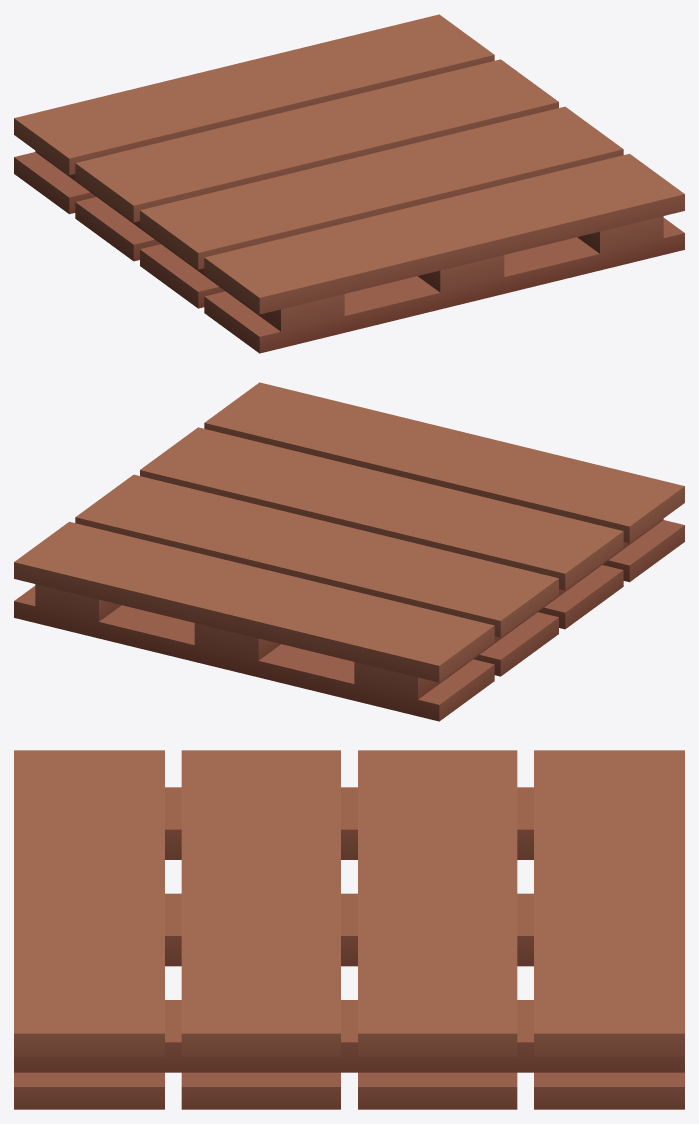
The model's file is kaykit-proto-Pallet_Large.glb.
The picture shows the model from 3 angles, top to bottom: view 1: azimuth 30°, elevation 25°; view 2: azimuth 150°, elevation 25°; view 3: azimuth 270°, elevation 25°; orthographic projection. The views are drawn at different scales.
Visible parts, largest first — view 1: Pallet_Large; view 2: Pallet_Large; view 3: Pallet_Large.
Part boxes in pixels (x1=…): Pallet_Large: x1=14, y1=14, x2=684, y2=353; Pallet_Large: x1=14, y1=382, x2=684, y2=721; Pallet_Large: x1=14, y1=750, x2=684, y2=1109.
Size of the model in its own units: 4 by 0.5 by 4.
Materials: 1 (1 with a texture image).
